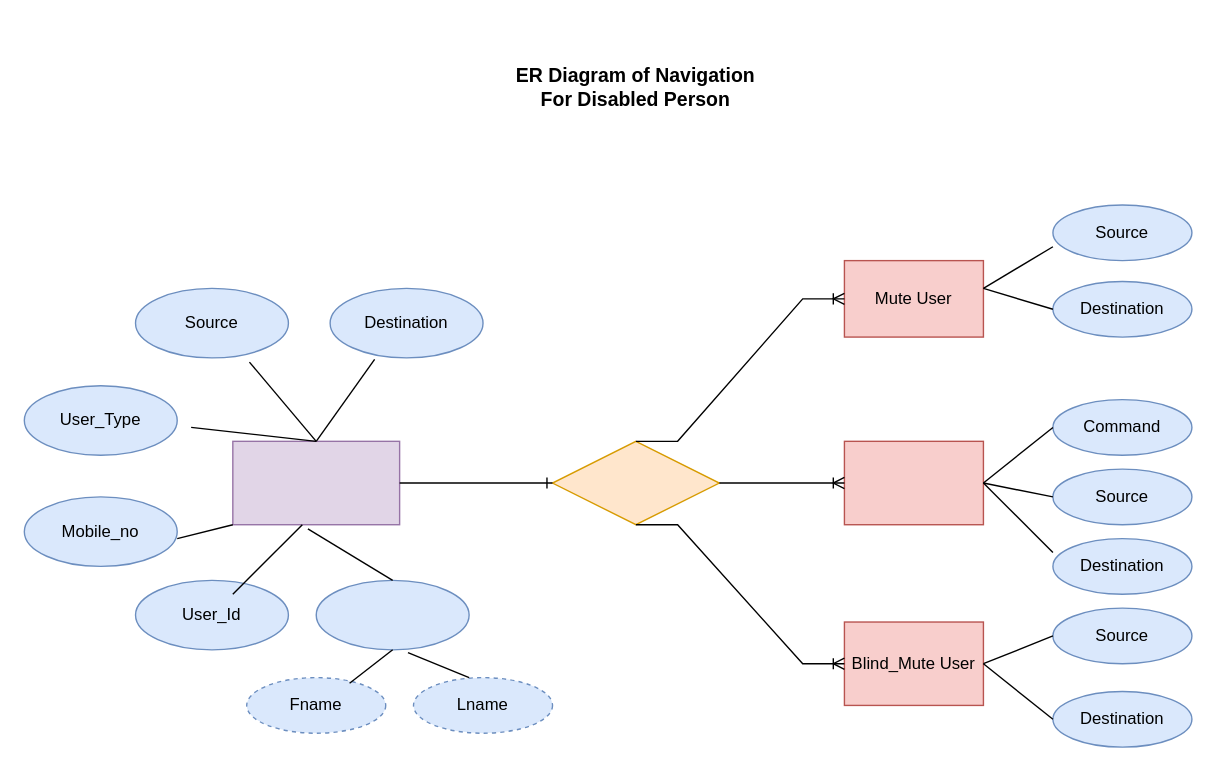
The diagram is 1216 pixels wide and 771 high, and some of its shapes have lost their labels. Here are the shapes that lost their labels. From the top down, the centre of each, then its label:
point (315, 482): User
point (635, 482): Is a
point (913, 482): Blind User
point (392, 614): User_name
